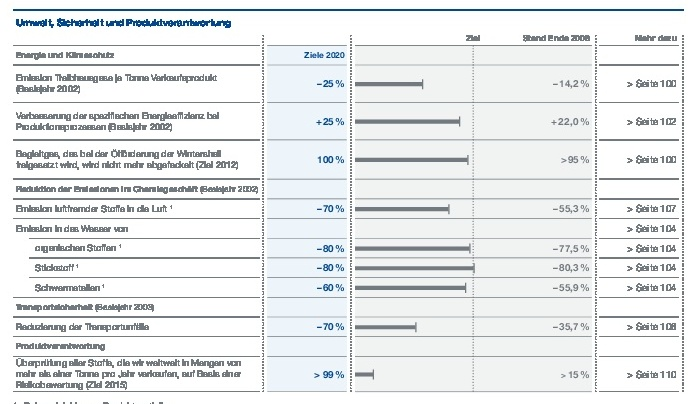table: (0, 0, 699, 404)
